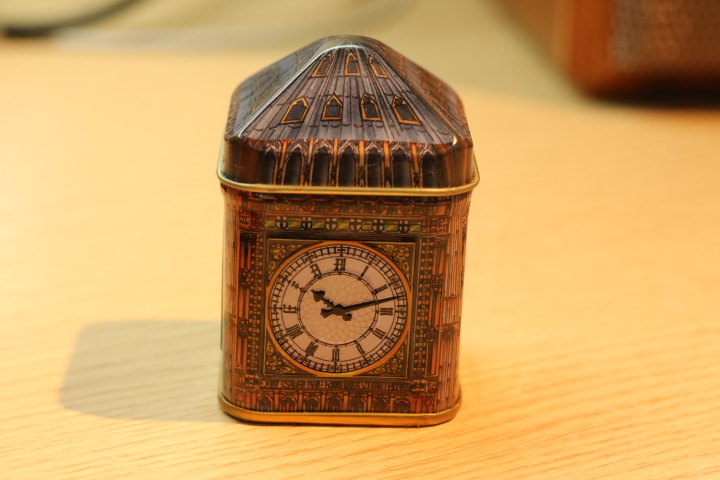Big Ben: (210, 30, 492, 442)
